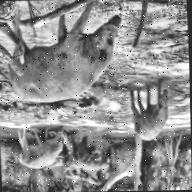boar: (0, 0, 129, 125), (10, 117, 73, 178), (125, 80, 175, 148)
